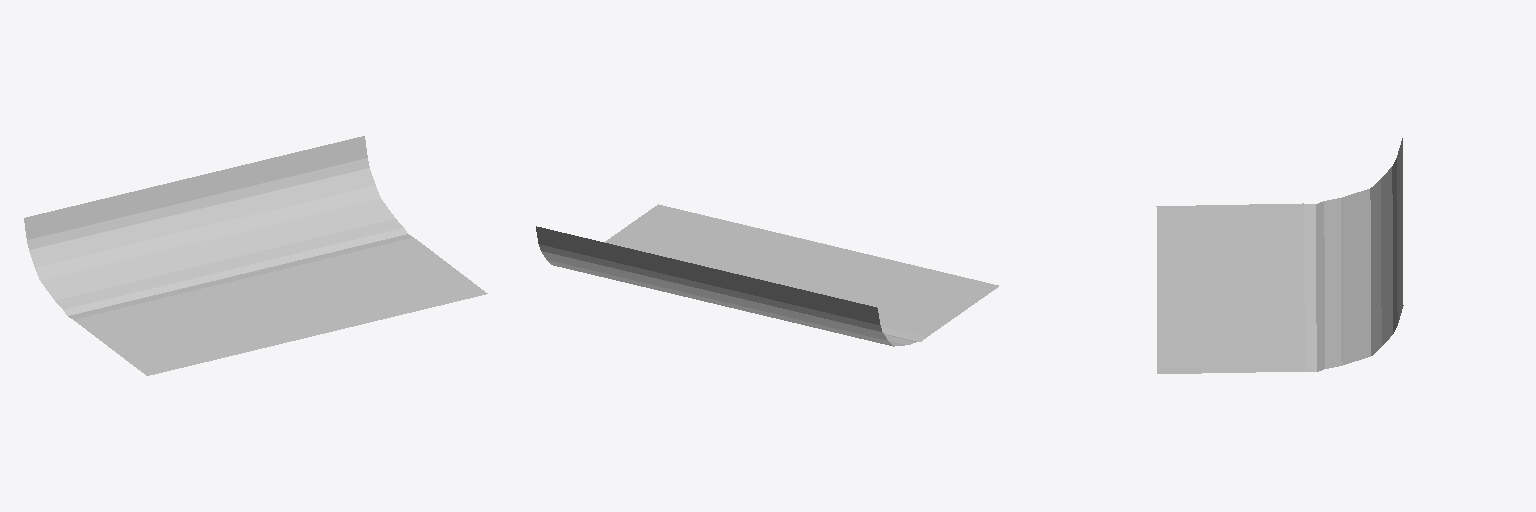
3 renders of one model, left to right at view 1: azimuth 30°, elevation 25°; view 2: azimuth 150°, elevation 25°; view 3: azimuth 270°, elevation 25°, orthographic.
Parts seen in each view (by area): view 1: Plane; view 2: Plane; view 3: Plane.
Boxes of the visible parts, box(x1,y1,x2,y2) form: Plane: box(24, 136, 487, 375); Plane: box(536, 204, 998, 346); Plane: box(1156, 138, 1403, 373).
Size of the model in its own units: 126 by 24.53 by 78.67.